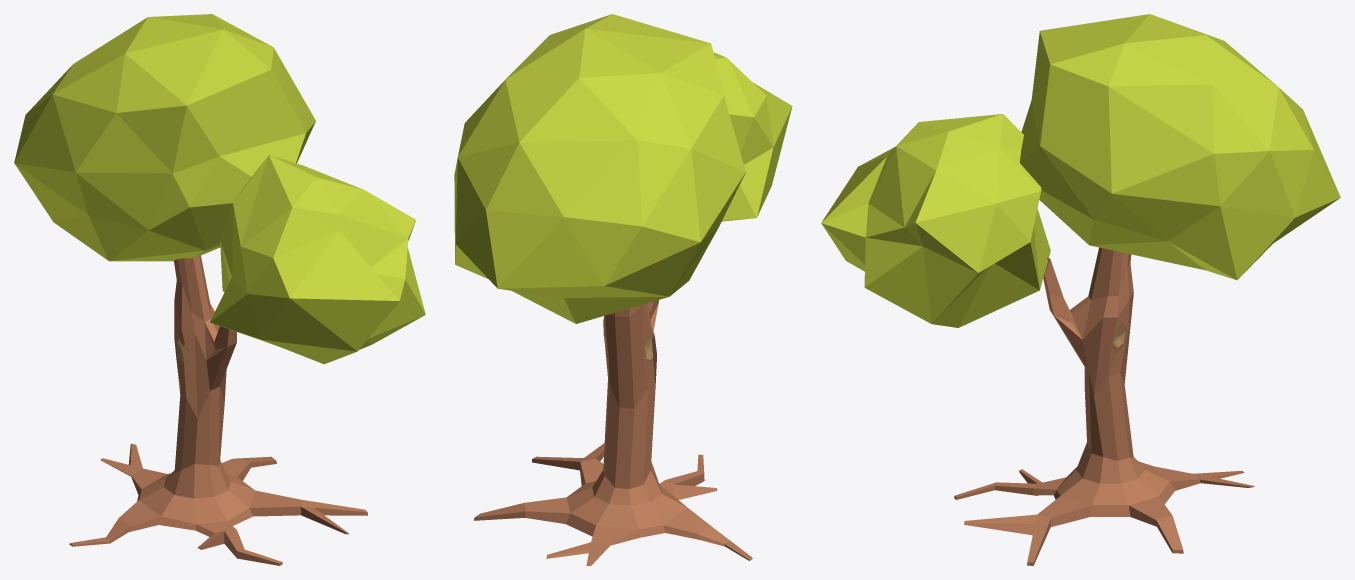
The model's file is OakTree.fbx.
3 renders of one model, left to right at view 1: azimuth 30°, elevation 25°; view 2: azimuth 150°, elevation 25°; view 3: azimuth 270°, elevation 25°, orthographic. The views are drawn at different scales.
Parts seen in each view (by area): view 1: OakTree; view 2: OakTree; view 3: OakTree.
Boxes of the visible parts, left/top/right/bottom form: OakTree: left=14, top=14, right=425, bottom=565; OakTree: left=454, top=14, right=792, bottom=565; OakTree: left=821, top=14, right=1340, bottom=565.
Bounding box in the file's own units: 428 × 756 × 747.
1 material, 1 textured.
